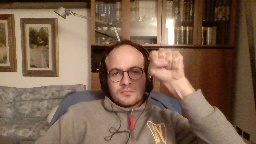Pugno: (146, 46, 185, 81)
